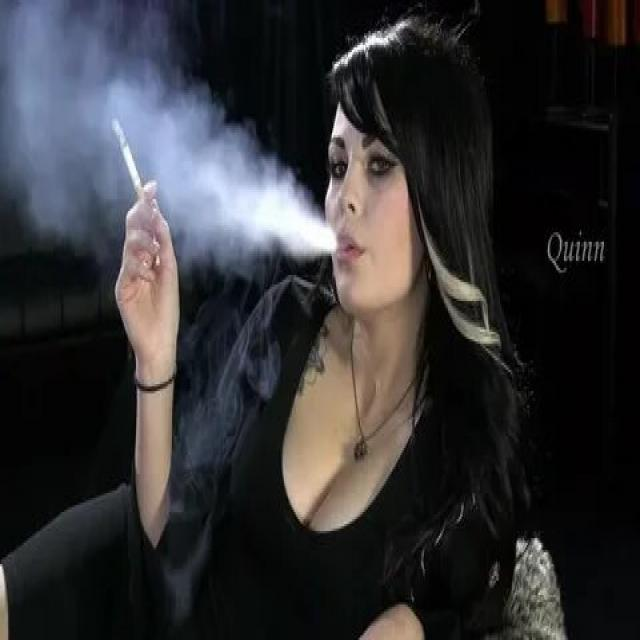cigarette: (109, 119, 148, 208)
